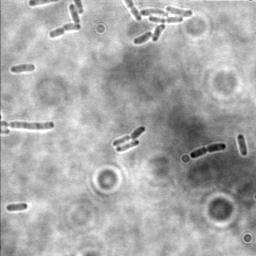Dividing: (111, 125, 147, 147), (189, 142, 228, 159), (48, 21, 82, 39)
Microcolony: (123, 1, 193, 47)
Rod: (7, 119, 56, 131), (115, 138, 140, 154), (236, 132, 249, 158), (9, 62, 36, 74), (67, 4, 81, 26), (5, 201, 28, 213)
